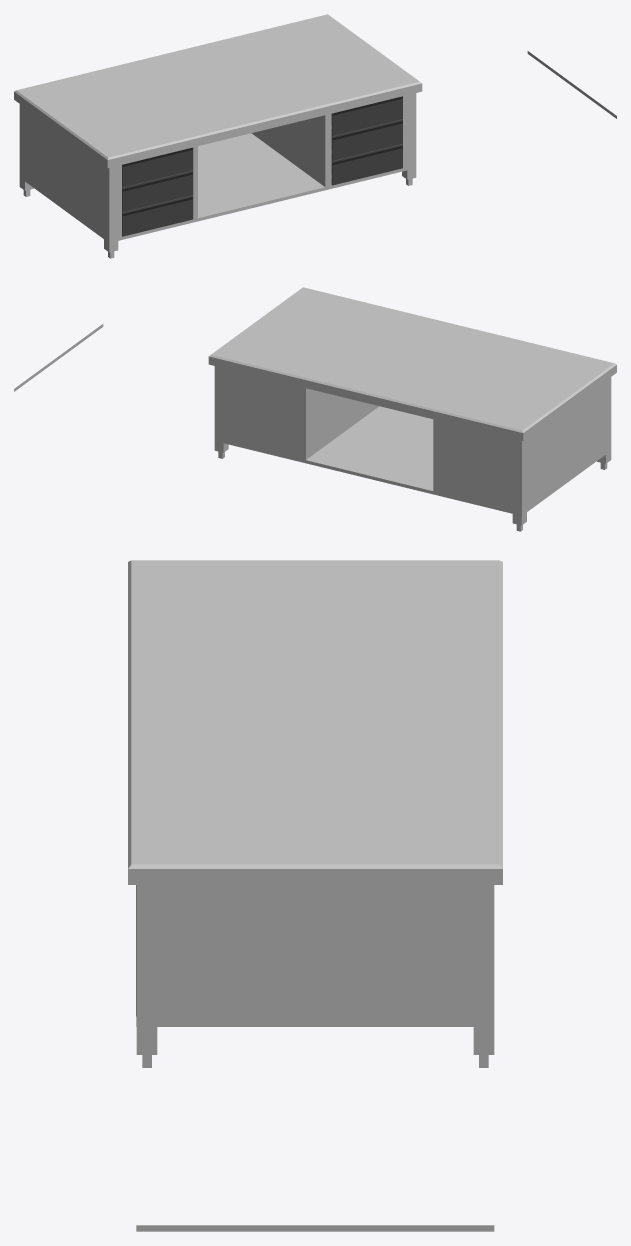
Rendered from 6DrawersWorkStation.fbx.
3 views of the same model, one above another, from view 1: azimuth 30°, elevation 25°; view 2: azimuth 150°, elevation 25°; view 3: azimuth 270°, elevation 25° (orthographic). The views are drawn at different scales.
Visible parts, largest first — view 1: Cube, Cube.001, Cube.002, Cube.004, Cube.003, Cube.006, Cube.005; view 2: Cube; view 3: Cube.
Part boxes in pixels (x1,y1,x2,y2): Cube: (14, 14, 616, 258); Cube.001: (331, 144, 402, 185); Cube.002: (331, 119, 402, 160); Cube.004: (122, 170, 192, 211); Cube.003: (122, 195, 192, 236); Cube.006: (331, 96, 402, 135); Cube.005: (122, 147, 192, 187); Cube: (14, 287, 616, 531); Cube: (128, 560, 502, 1231).
Size of the model in its own units: 554 by 108 by 176.
